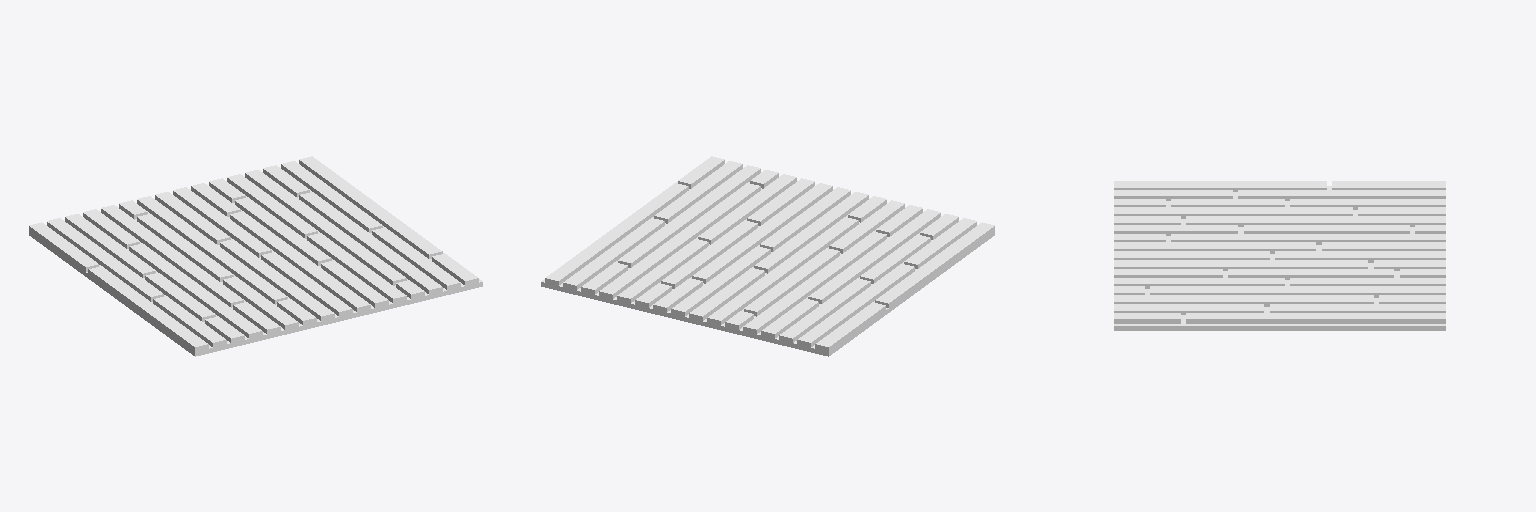
The model's file is dive_bar_interior_floor.obj.
3 renders of one model, left to right at view 1: azimuth 30°, elevation 25°; view 2: azimuth 150°, elevation 25°; view 3: azimuth 270°, elevation 25°, orthographic.
Size of the model in its own units: 64 by 2 by 64.